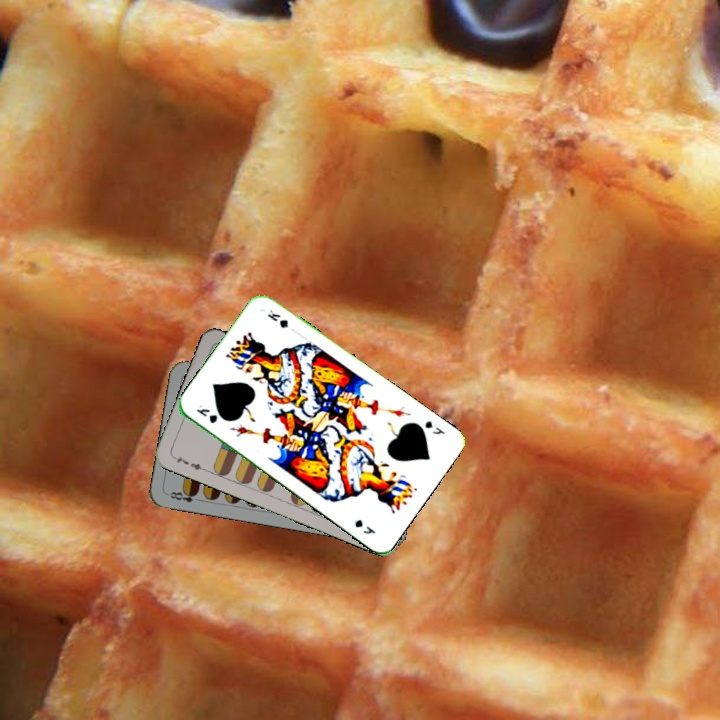E7: (169, 452, 208, 473)
E8: (166, 486, 204, 505)
GK: (193, 404, 220, 426), (421, 416, 448, 437)
